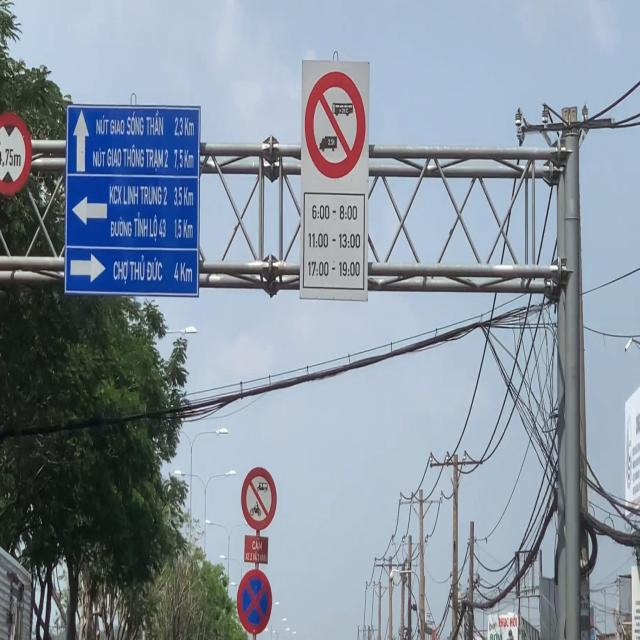Cam con lai: (303, 68, 366, 184), (241, 464, 276, 530)
Cam dung va do: (237, 569, 272, 634)
Chieu cao toi da: (0, 112, 32, 194)
